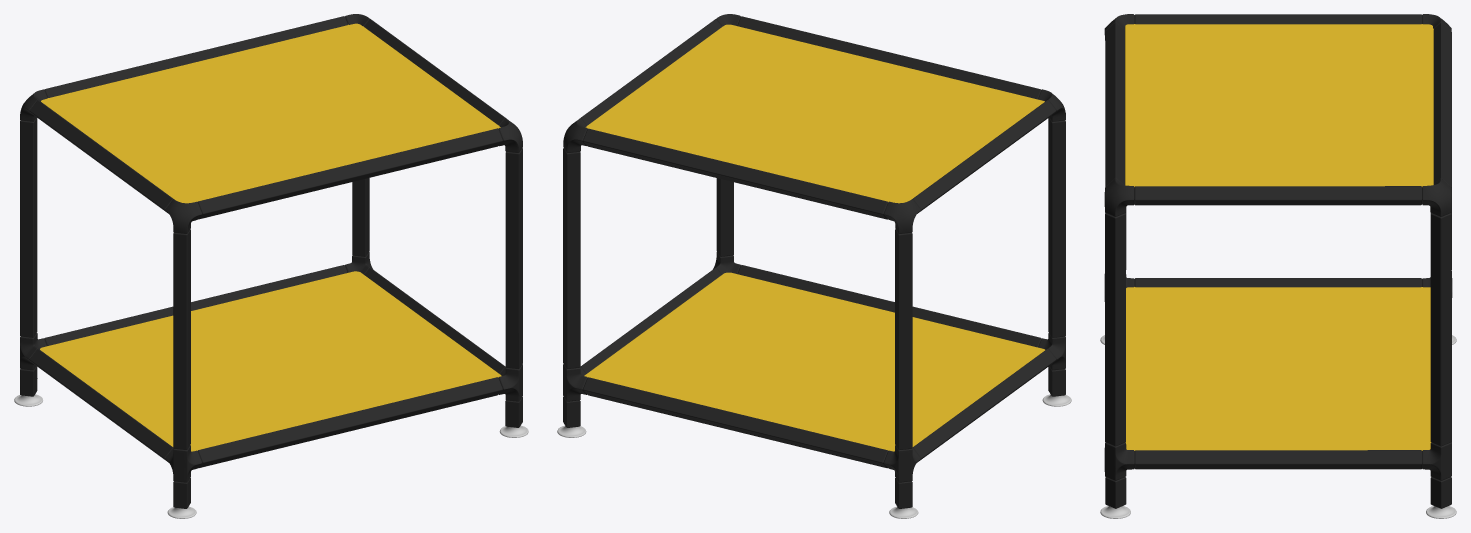
3 renders of one model, left to right at view 1: azimuth 30°, elevation 25°; view 2: azimuth 150°, elevation 25°; view 3: azimuth 270°, elevation 25°, orthographic. The views are drawn at different scales.
Parts seen in each view (by area): view 1: 479x374x329; view 2: 479x374x329; view 3: 479x374x329.
Part boxes in pixels (x1,y1,x2,y2): 479x374x329: (14, 14, 528, 518); 479x374x329: (557, 14, 1071, 518); 479x374x329: (1100, 14, 1456, 518).
Bounding box in the file's own units: 0.5689 × 0.4683 × 0.4633.
